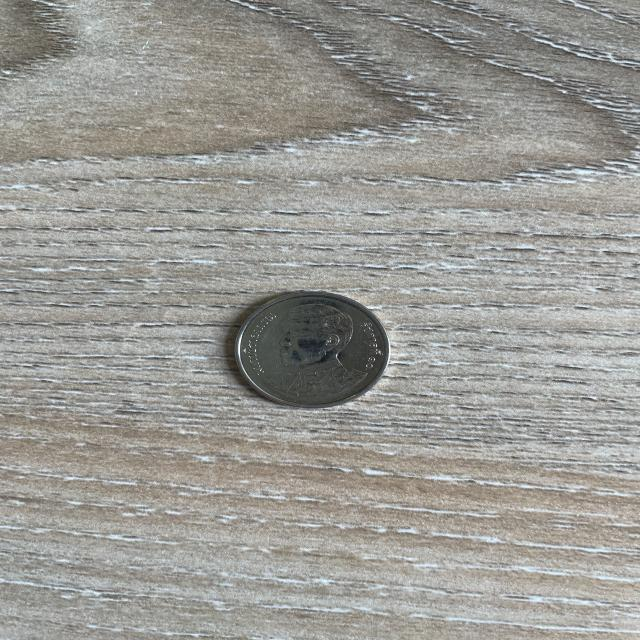1 Bath: (203, 276, 410, 421)
